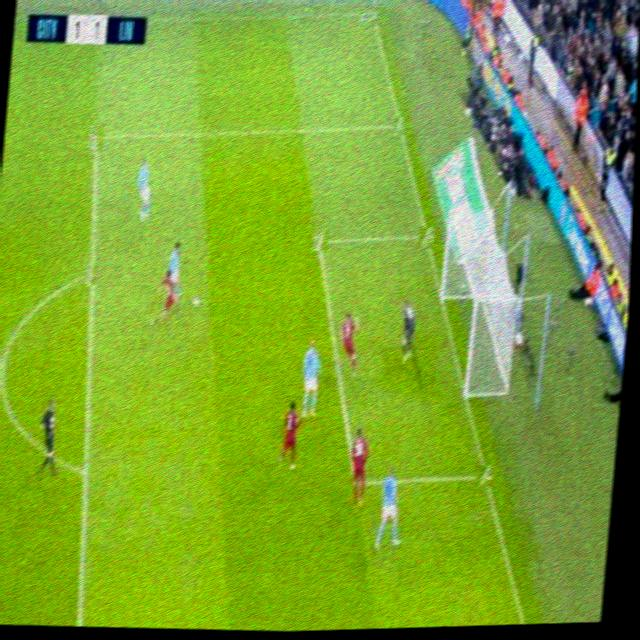bigarea_top_inner: (86, 125, 104, 151)
bigarea_top_outter: (392, 116, 405, 136)
bottom_arc_area_intersection: (77, 459, 91, 484)
corner: (357, 3, 378, 23)
smallarea_bottom_outter: (476, 464, 494, 487)
smallarea_top_inner: (311, 232, 329, 255)
smallarea_top_outter: (417, 226, 435, 248)
top_arc_area_intersection: (83, 262, 98, 285)
